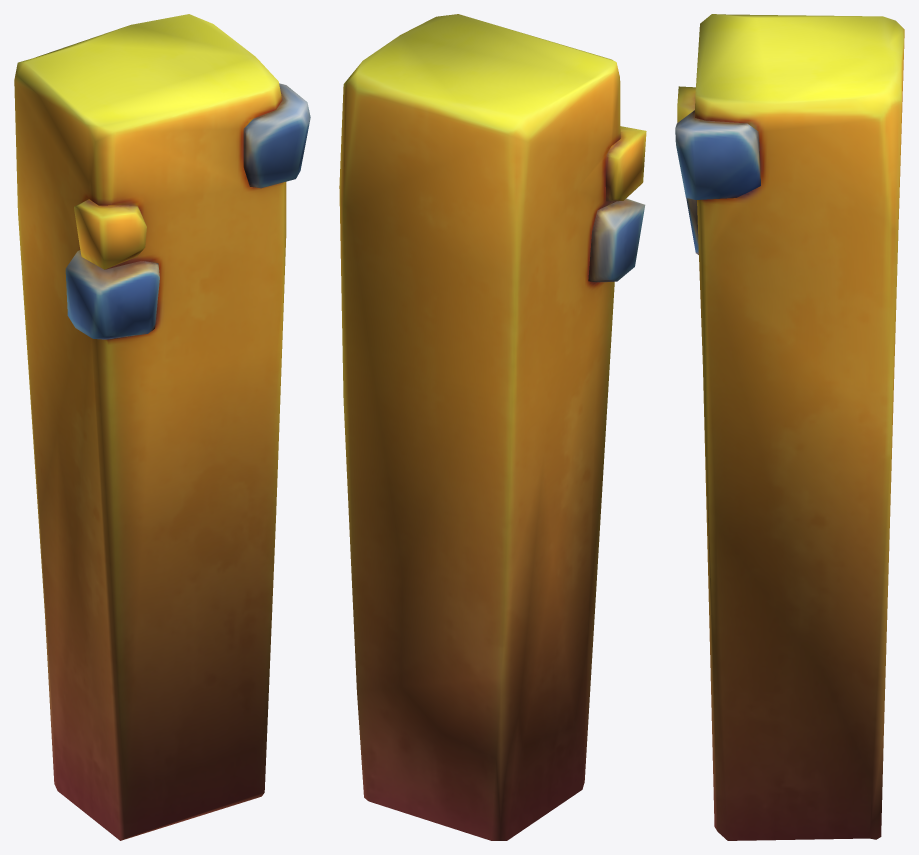
Rendered from SM_Gem_Topaz_005.fbx.
3 views of the same model, side by side, from view 1: azimuth 30°, elevation 25°; view 2: azimuth 150°, elevation 25°; view 3: azimuth 270°, elevation 25° (orthographic). The views are drawn at different scales.
Visible parts, largest first — view 1: SM_Gem_Topaz_005; view 2: SM_Gem_Topaz_005; view 3: SM_Gem_Topaz_005.
Boxes of the visible parts, <box> form: SM_Gem_Topaz_005: <box>14,14,310,840</box>; SM_Gem_Topaz_005: <box>339,14,646,840</box>; SM_Gem_Topaz_005: <box>675,14,904,840</box>.
Size of the model in its own units: 17.2 by 55.94 by 15.29.
